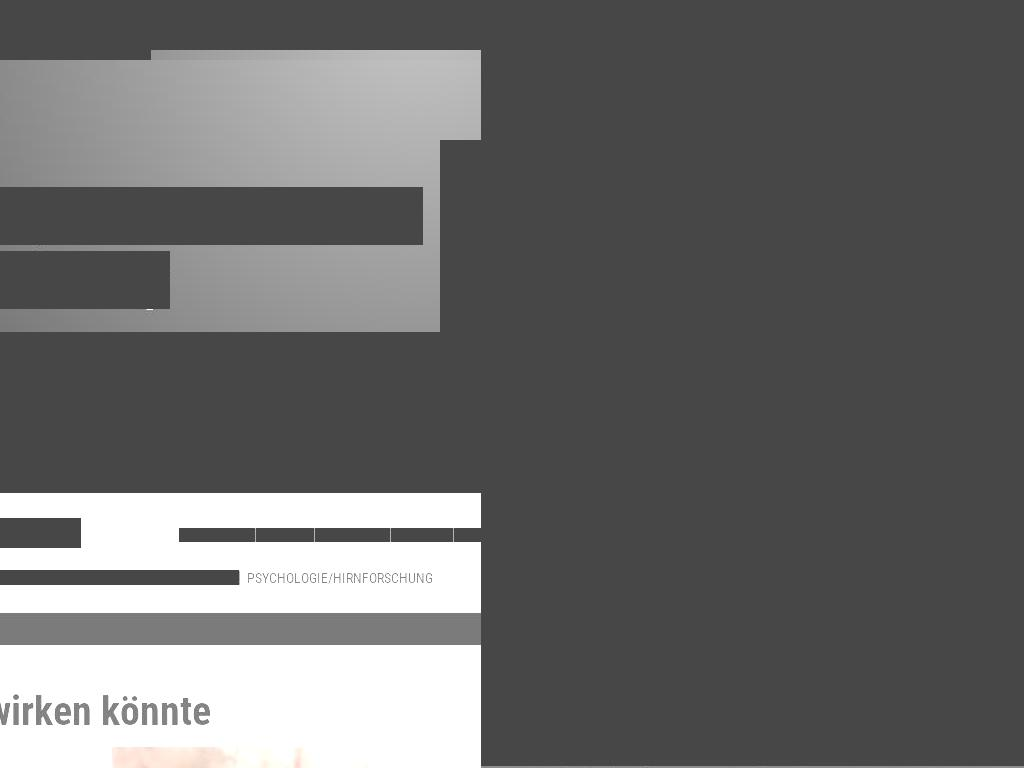button: (0, 664, 481, 768), (0, 612, 481, 645), (0, 0, 151, 60), (151, 0, 296, 50), (481, 640, 604, 695), (296, 0, 395, 50), (395, 0, 481, 50), (239, 570, 440, 585), (896, 374, 1021, 390), (0, 522, 81, 542), (555, 374, 644, 390), (23, 570, 116, 585), (179, 528, 255, 542), (315, 528, 390, 542), (116, 570, 181, 585), (181, 570, 239, 585), (391, 528, 453, 542), (256, 528, 314, 542), (1001, 655, 1024, 679), (1006, 136, 1024, 166), (454, 528, 481, 542), (0, 570, 23, 585)
field: (890, 60, 1024, 82), (890, 104, 1024, 126), (886, 142, 899, 155)
heading: (0, 187, 423, 245), (481, 465, 879, 511), (0, 687, 211, 735), (0, 251, 170, 309), (0, 332, 441, 353)
iframe: (0, 353, 481, 493)
image: (481, 353, 1024, 766), (481, 0, 1024, 353), (0, 3, 141, 37), (793, 198, 889, 237), (0, 518, 81, 548)
label: (795, 60, 890, 80), (795, 104, 890, 124), (902, 142, 988, 158)
link: (810, 237, 871, 253), (1009, 647, 1024, 687), (800, 145, 835, 157)
text: (481, 525, 700, 607), (0, 612, 481, 645), (0, 664, 481, 687), (764, 354, 881, 400), (659, 354, 764, 400), (910, 198, 1024, 230), (481, 354, 540, 400), (171, 10, 276, 30), (415, 10, 481, 30), (316, 10, 375, 30)
